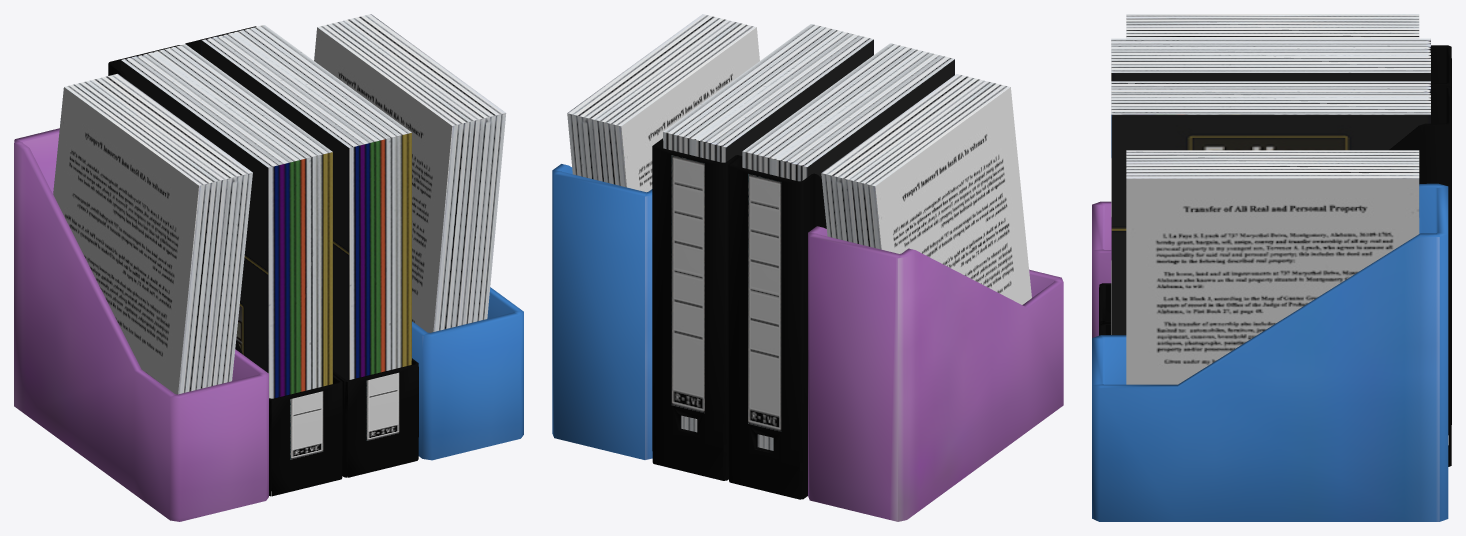
The model's file is 3Dguoji_JYJY_ZLWJ01_xp_ljw.FBX.
The picture shows the model from 3 angles, left to right: view 1: azimuth 30°, elevation 25°; view 2: azimuth 150°, elevation 25°; view 3: azimuth 270°, elevation 25°; orthographic projection. The views are drawn at different scales.
Parts seen in each view (by area): view 1: 3Dguoji_JYJY_ZLWJ01_xp_ljw; view 2: 3Dguoji_JYJY_ZLWJ01_xp_ljw; view 3: 3Dguoji_JYJY_ZLWJ01_xp_ljw.
Part boxes in pixels (box(x1,y1,x2,y2)): 3Dguoji_JYJY_ZLWJ01_xp_ljw: box(14, 14, 523, 521); 3Dguoji_JYJY_ZLWJ01_xp_ljw: box(552, 14, 1063, 521); 3Dguoji_JYJY_ZLWJ01_xp_ljw: box(1092, 14, 1451, 521).
Bounding box in the file's own units: 0.3535 × 0.3099 × 0.2876.
